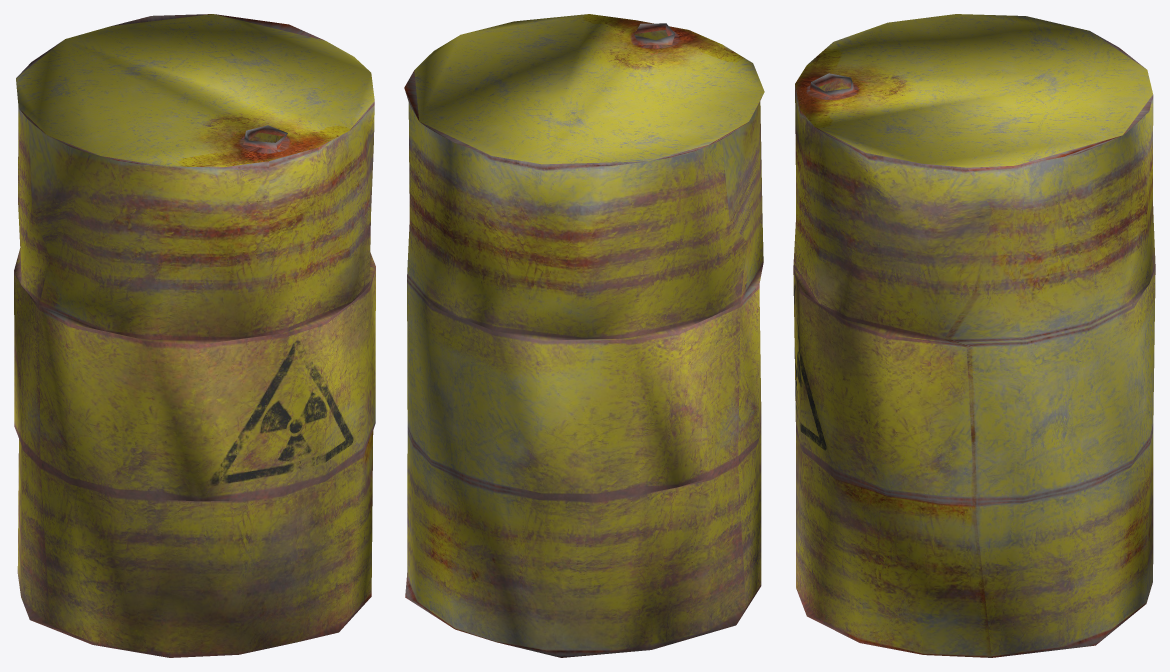
Rendered from MiskasteDzelt.fbx.
3 views of the same model, side by side, from view 1: azimuth 30°, elevation 25°; view 2: azimuth 150°, elevation 25°; view 3: azimuth 270°, elevation 25° (orthographic).
Visible parts, largest first — view 1: Nuclear Waste Oil Drum; view 2: Nuclear Waste Oil Drum; view 3: Nuclear Waste Oil Drum.
Boxes of the visible parts, x1,y1,x2,y2 form: Nuclear Waste Oil Drum: (14,14,375,657); Nuclear Waste Oil Drum: (404,14,764,657); Nuclear Waste Oil Drum: (793,14,1155,657).
Size of the model in its own units: 0.5521 by 0.8444 by 0.5495.
1 material, 1 textured.
